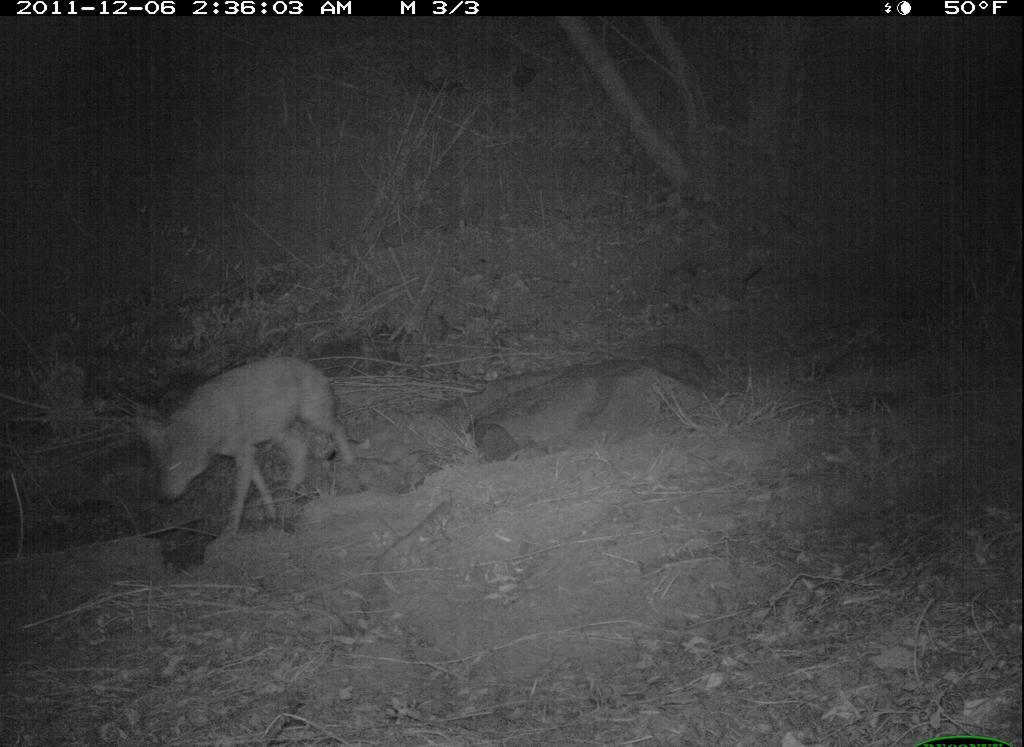coyote: (120, 350, 358, 525)
